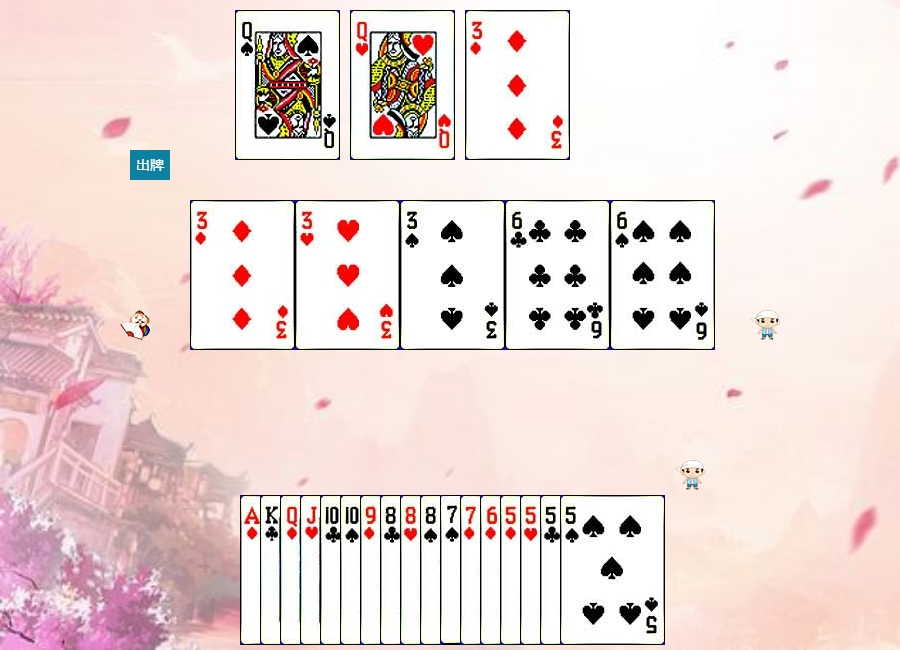10~2: (320, 495, 425, 645)
10~4: (340, 495, 445, 645)
11~3: (300, 495, 405, 645)
12~1: (280, 495, 385, 645)
12~3: (350, 10, 455, 160)
12~4: (235, 10, 340, 160)
13~2: (260, 495, 365, 645)
14~1: (240, 495, 345, 645)
3~1: (465, 10, 570, 160), (190, 200, 295, 350)
3~3: (295, 200, 400, 350)
3~4: (400, 200, 505, 350)
5~1: (500, 495, 605, 645)
5~2: (540, 495, 645, 645)
5~3: (520, 495, 625, 645)
5~4: (560, 495, 665, 645)
6~1: (480, 495, 585, 645)
6~2: (505, 200, 610, 350)
6~4: (610, 200, 715, 350)
7~1: (460, 495, 565, 645)
7~4: (440, 495, 545, 645)
8~2: (380, 495, 485, 645)
8~3: (400, 495, 505, 645)
8~4: (420, 495, 525, 645)
9~1: (360, 495, 465, 645)
